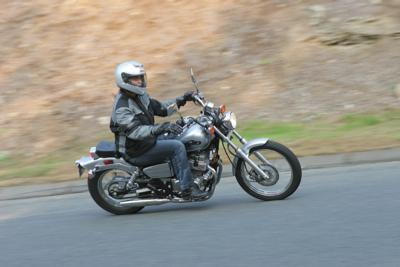With Helmet: (111, 60, 148, 92)
